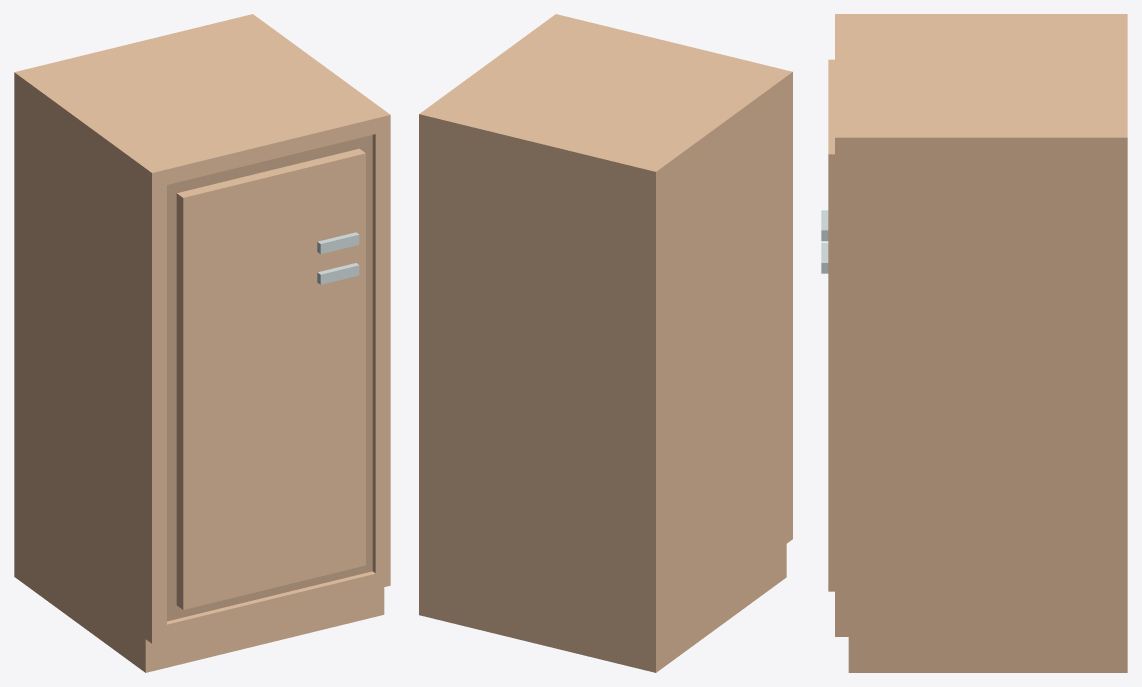
Rendered from k_kitchenFridgeBuiltIn.glb.
3 views of the same model, side by side, from view 1: azimuth 30°, elevation 25°; view 2: azimuth 150°, elevation 25°; view 3: azimuth 270°, elevation 25° (orthographic). The views are drawn at different scales.
Visible parts, largest first — view 1: kitchenFridgeBuiltIn(Clone); view 2: kitchenFridgeBuiltIn(Clone); view 3: kitchenFridgeBuiltIn(Clone).
Part boxes in pixels (x1,y1,x2,y2): kitchenFridgeBuiltIn(Clone): (14, 14, 390, 672); kitchenFridgeBuiltIn(Clone): (419, 14, 792, 672); kitchenFridgeBuiltIn(Clone): (821, 14, 1127, 672).
Size of the model in its own units: 0.7835 by 1.58 by 0.8201.
Materials: 2 (2 with a texture image).
